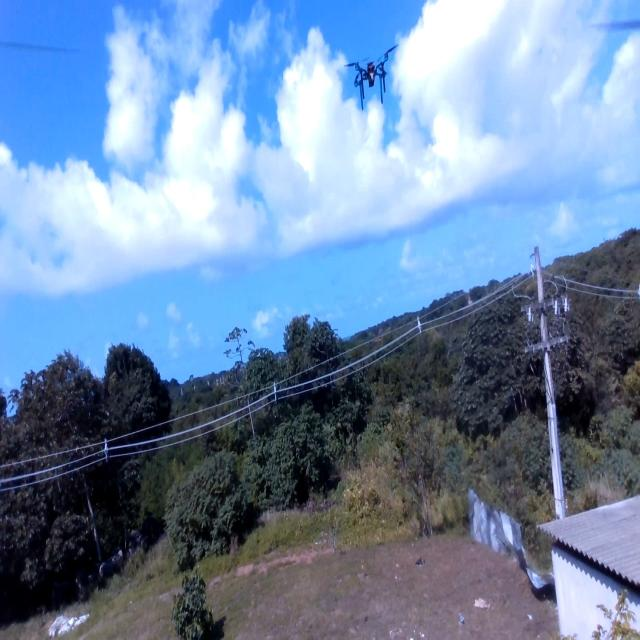-uav-: (338, 36, 404, 118)
